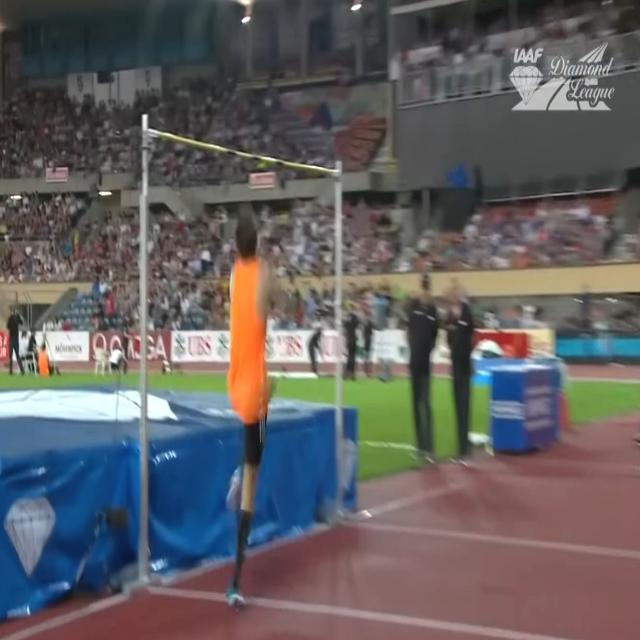jump: (227, 206, 287, 606)
